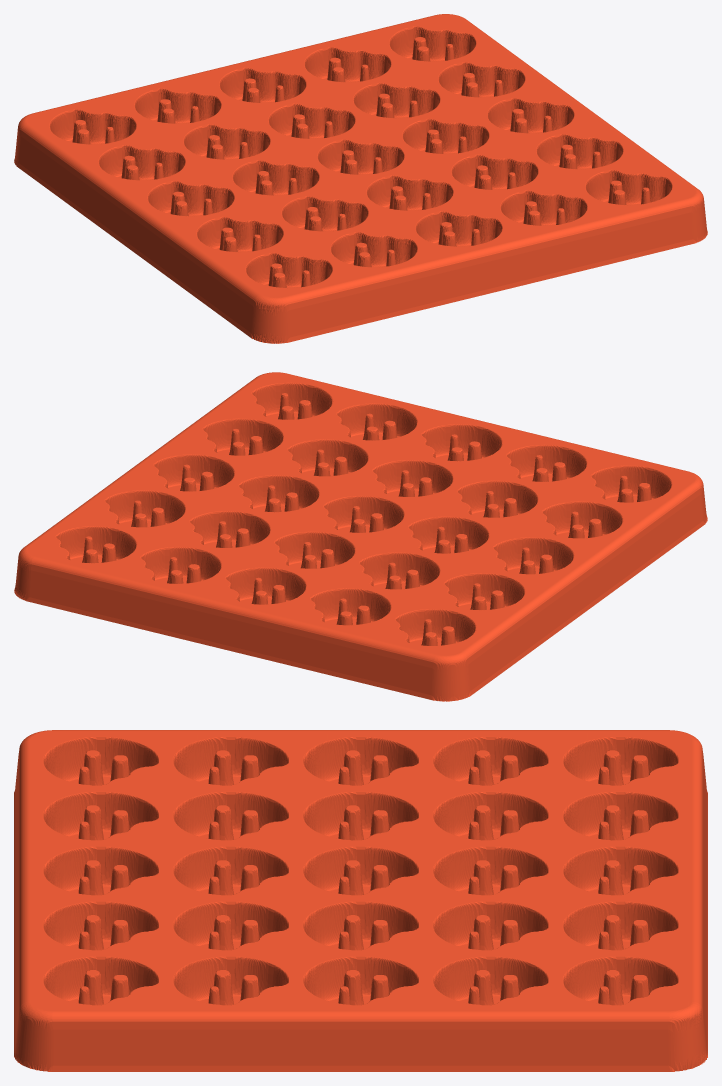
File: mold.glb
The picture shows the model from 3 angles, top to bottom: view 1: azimuth 30°, elevation 25°; view 2: azimuth 150°, elevation 25°; view 3: azimuth 270°, elevation 25°; orthographic projection. The views are drawn at different scales.
Parts seen in each view (by area): view 1: geometry_0; view 2: geometry_0; view 3: geometry_0.
Part boxes in pixels (left/top/right/bottom): geometry_0: left=14, top=14, right=707, bottom=343; geometry_0: left=14, top=372, right=707, bottom=701; geometry_0: left=14, top=730, right=707, bottom=1071.
Bounding box in the file's own units: 0.1584 × 0.0136 × 0.1584.
